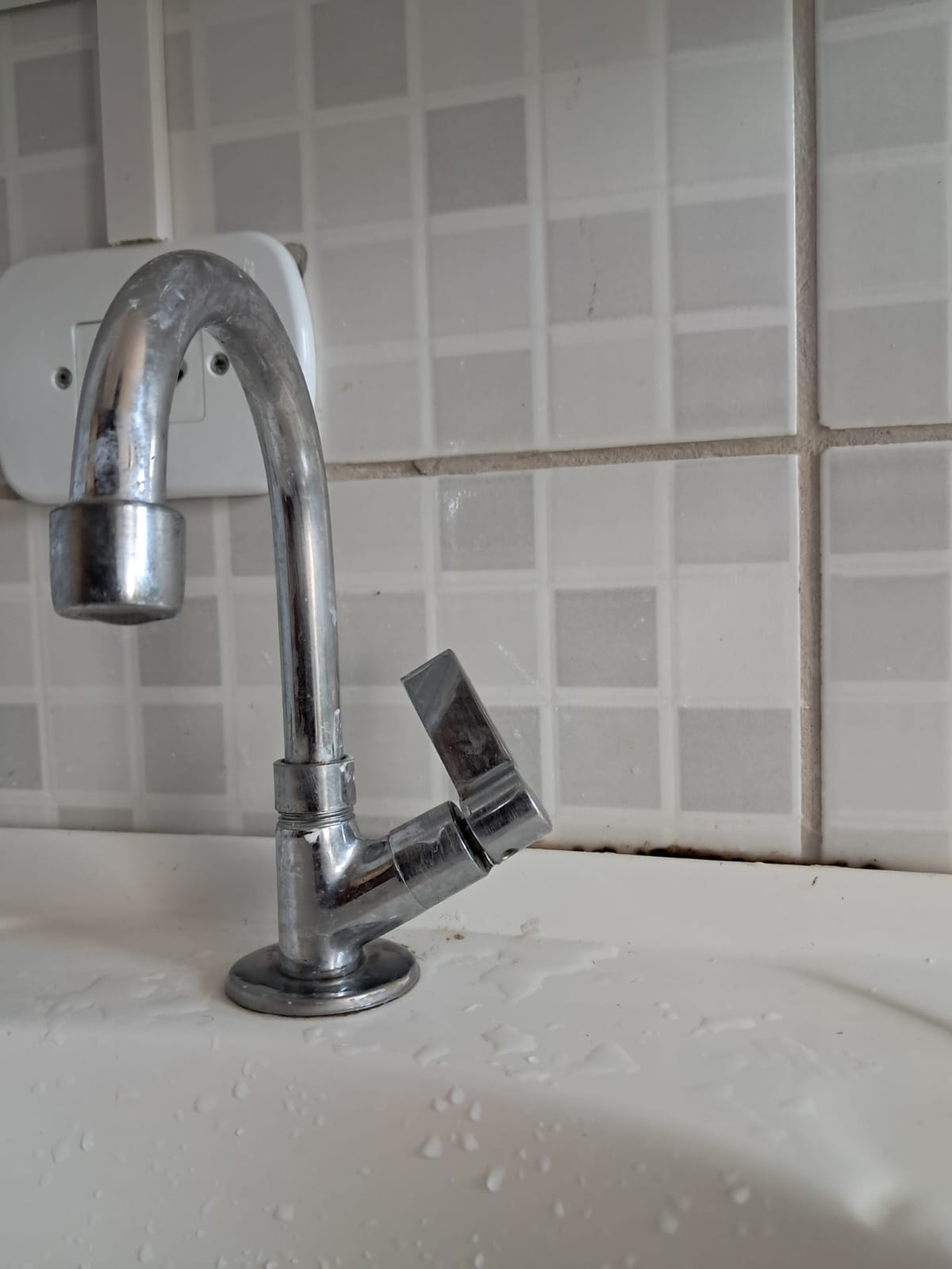torneira_fechada: (12, 229, 590, 1034)
